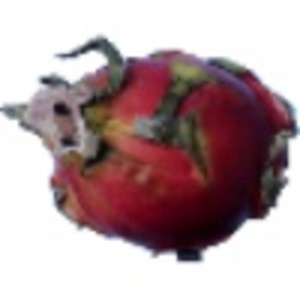pitaia: (1, 35, 300, 264)
